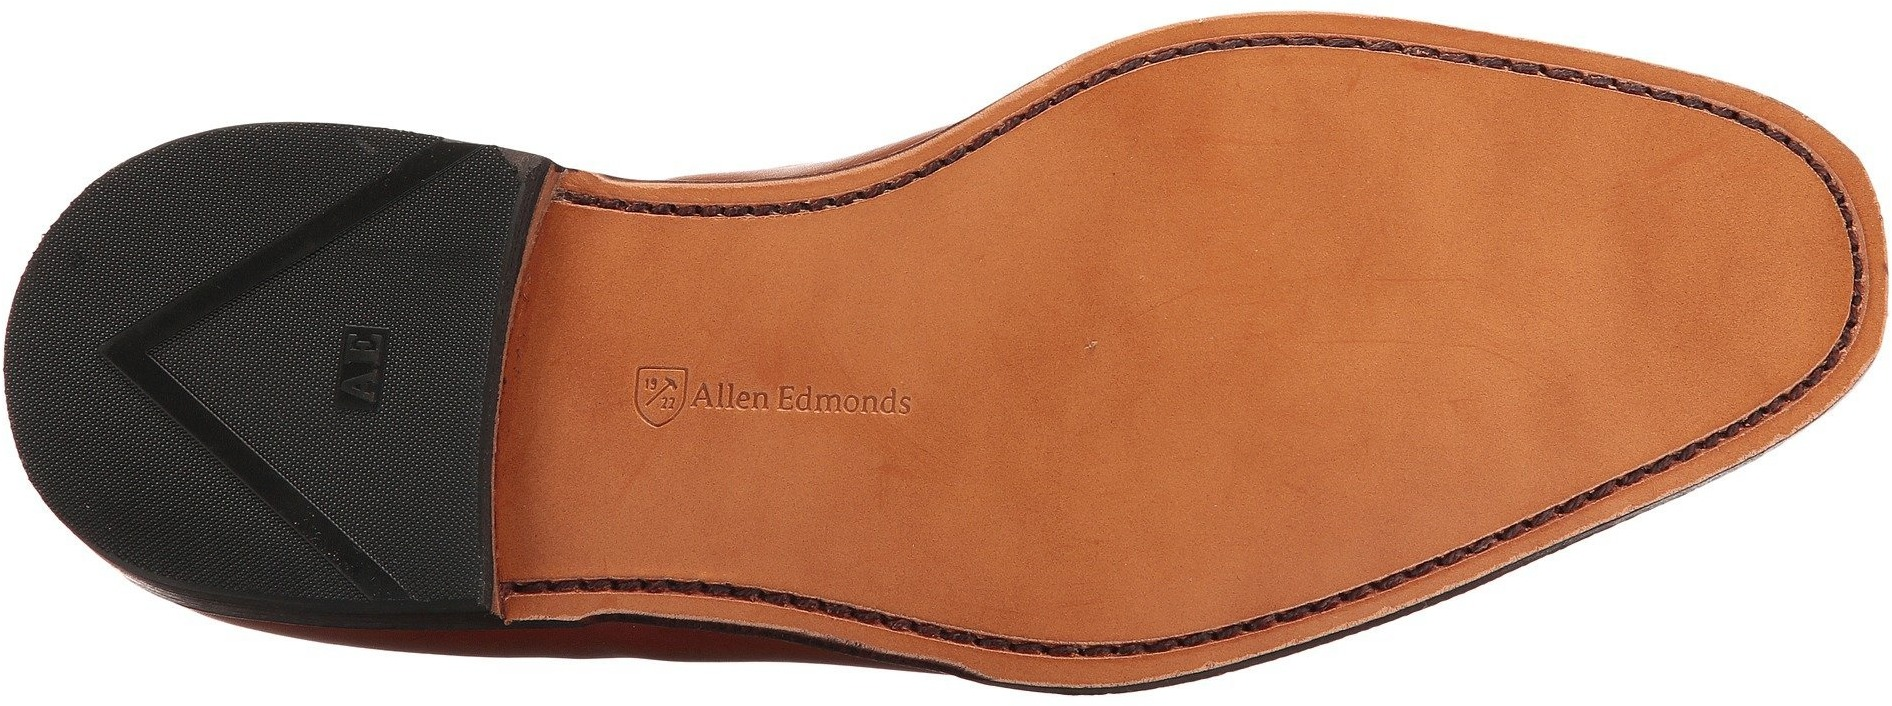chevron: (52, 255, 282, 510)
exclude: (478, 118, 863, 660)
other: (1196, 86, 1491, 380), (1499, 122, 1760, 398), (938, 189, 1193, 425), (953, 430, 1184, 634), (1198, 384, 1390, 574), (337, 412, 478, 547), (376, 221, 486, 327)
text: (796, 346, 945, 490), (687, 351, 798, 459), (329, 364, 390, 419), (337, 326, 390, 377)
